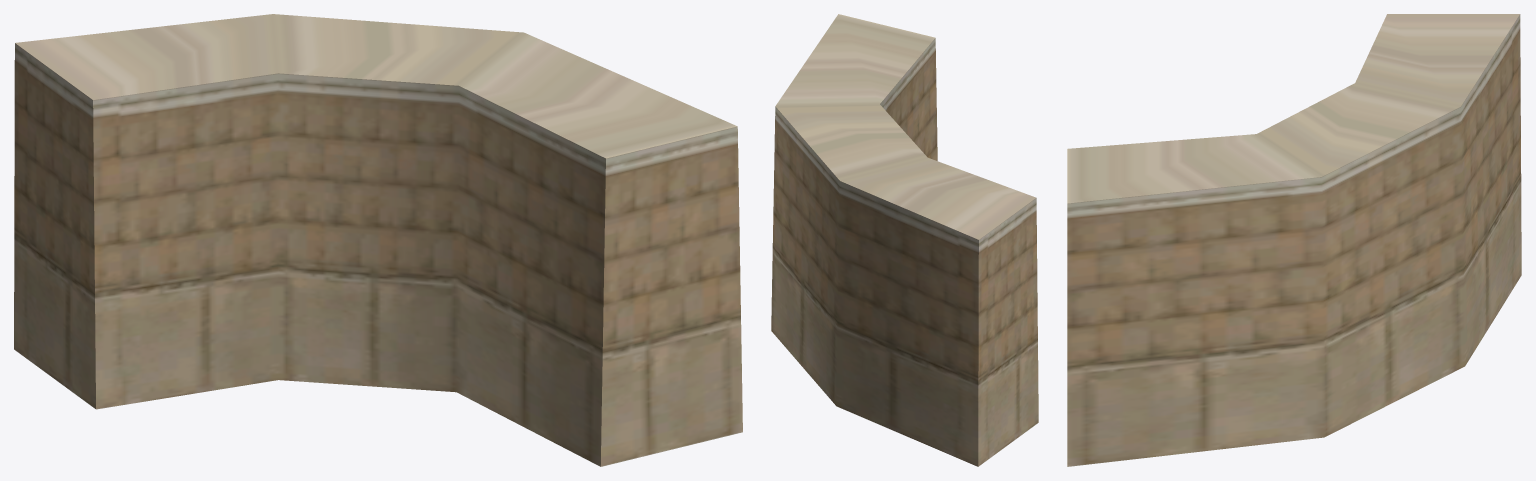
File: thm_nboo_imprv_tall_curved_wall_small_s01_l3.fbx
The picture shows the model from 3 angles, left to right: view 1: azimuth 30°, elevation 25°; view 2: azimuth 150°, elevation 25°; view 3: azimuth 270°, elevation 25°; orthographic projection. The views are drawn at different scales.
Visible parts, largest first — view 1: mesh_node; view 2: mesh_node; view 3: mesh_node.
Boxes of the visible parts, <box> form: mesh_node: <box>14,14,742,466</box>; mesh_node: <box>771,14,1038,466</box>; mesh_node: <box>1067,14,1521,466</box>.
Size of the model in its own units: 4.72 by 3 by 4.73.
1 material, 1 textured.
